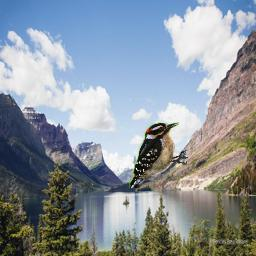Woodpecker: (129, 122, 188, 188)
